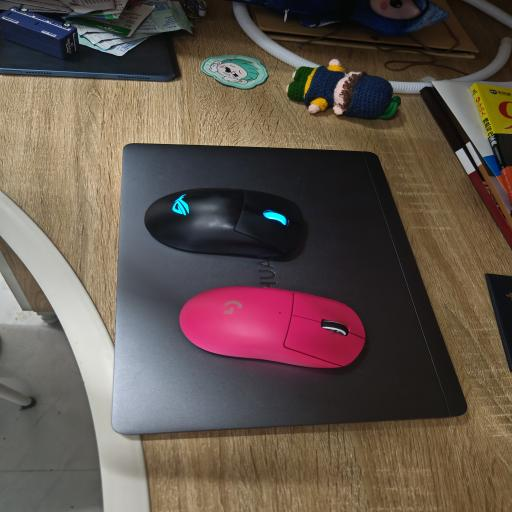laptop: (111, 142, 470, 436)
mouse: (179, 286, 365, 368), (144, 188, 302, 258)
